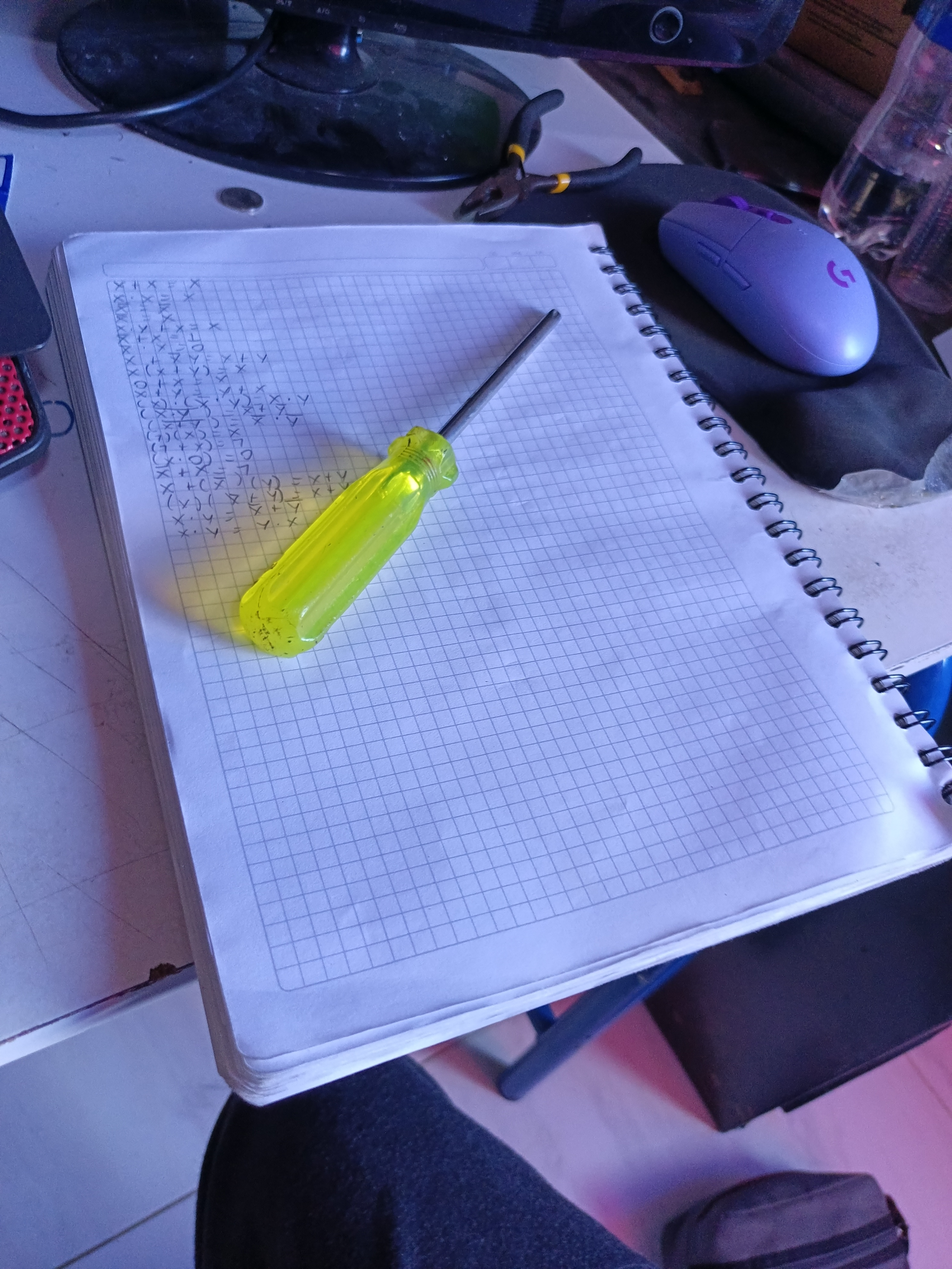Destornillador: (240, 310, 560, 657)
